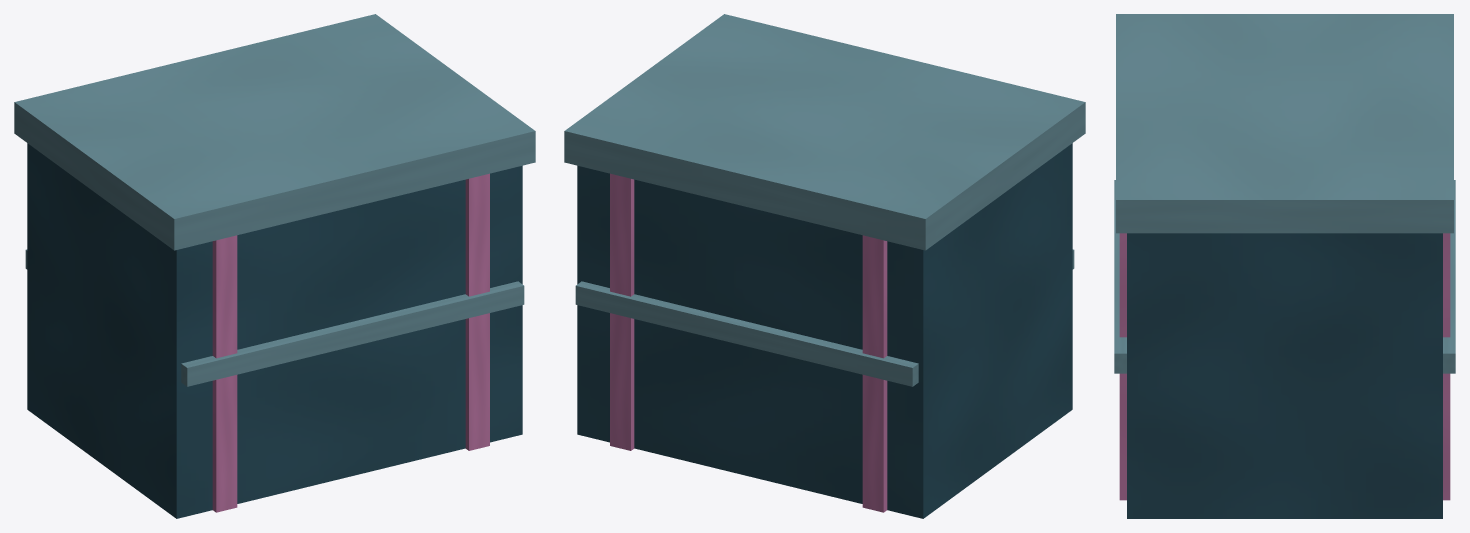
The model's file is atlas100-abyss-util02.lod1.glb.
3 views of the same model, side by side, from view 1: azimuth 30°, elevation 25°; view 2: azimuth 150°, elevation 25°; view 3: azimuth 270°, elevation 25° (orthographic). The views are drawn at different scales.
Parts seen in each view (by area): view 1: atlas100-abyss-util02:part-000, atlas100-abyss-util02:part-005, atlas100-abyss-util02:part-004, atlas100-abyss-util02:part-001, atlas100-abyss-util02:part-002; view 2: atlas100-abyss-util02:part-000, atlas100-abyss-util02:part-005, atlas100-abyss-util02:part-003, atlas100-abyss-util02:part-001, atlas100-abyss-util02:part-002; view 3: atlas100-abyss-util02:part-000, atlas100-abyss-util02:part-005, atlas100-abyss-util02:part-002, atlas100-abyss-util02:part-003, atlas100-abyss-util02:part-004.
Boxes of the visible parts, x1,y1,x2,y2 form: atlas100-abyss-util02:part-000: (27, 143, 522, 518); atlas100-abyss-util02:part-005: (14, 14, 535, 250); atlas100-abyss-util02:part-004: (181, 281, 524, 386); atlas100-abyss-util02:part-001: (212, 235, 237, 512); atlas100-abyss-util02:part-002: (465, 173, 489, 450); atlas100-abyss-util02:part-000: (577, 143, 1072, 518); atlas100-abyss-util02:part-005: (564, 14, 1085, 250); atlas100-abyss-util02:part-003: (575, 281, 918, 386); atlas100-abyss-util02:part-001: (862, 235, 887, 512); atlas100-abyss-util02:part-002: (610, 173, 634, 450); atlas100-abyss-util02:part-000: (1127, 233, 1442, 518); atlas100-abyss-util02:part-005: (1116, 14, 1453, 233); atlas100-abyss-util02:part-002: (1119, 233, 1450, 500); atlas100-abyss-util02:part-003: (1443, 180, 1455, 373); atlas100-abyss-util02:part-004: (1114, 180, 1126, 373).
Size of the model in its own units: 1.31 by 1.06 by 1.02.
Materials: 3 (3 with a texture image).
